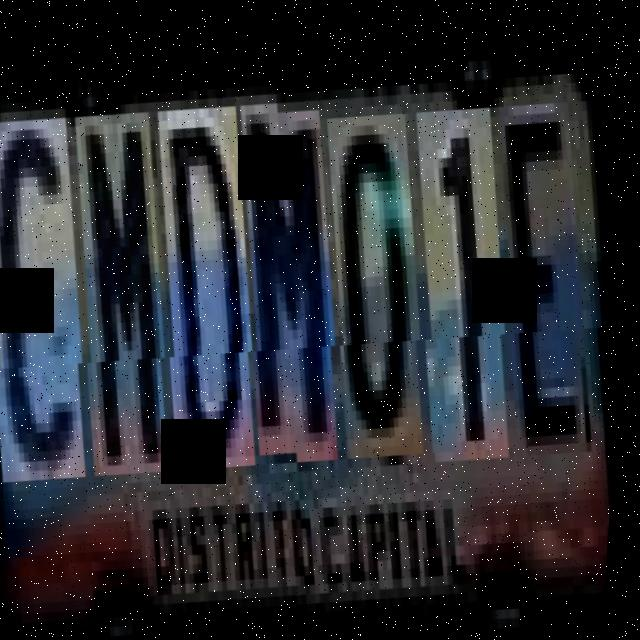1: (394, 93, 546, 458)
C: (0, 120, 125, 497)
D: (134, 105, 295, 481)
E: (476, 86, 624, 450)
M: (53, 113, 207, 488), (219, 98, 375, 465)
O: (307, 100, 461, 457)
